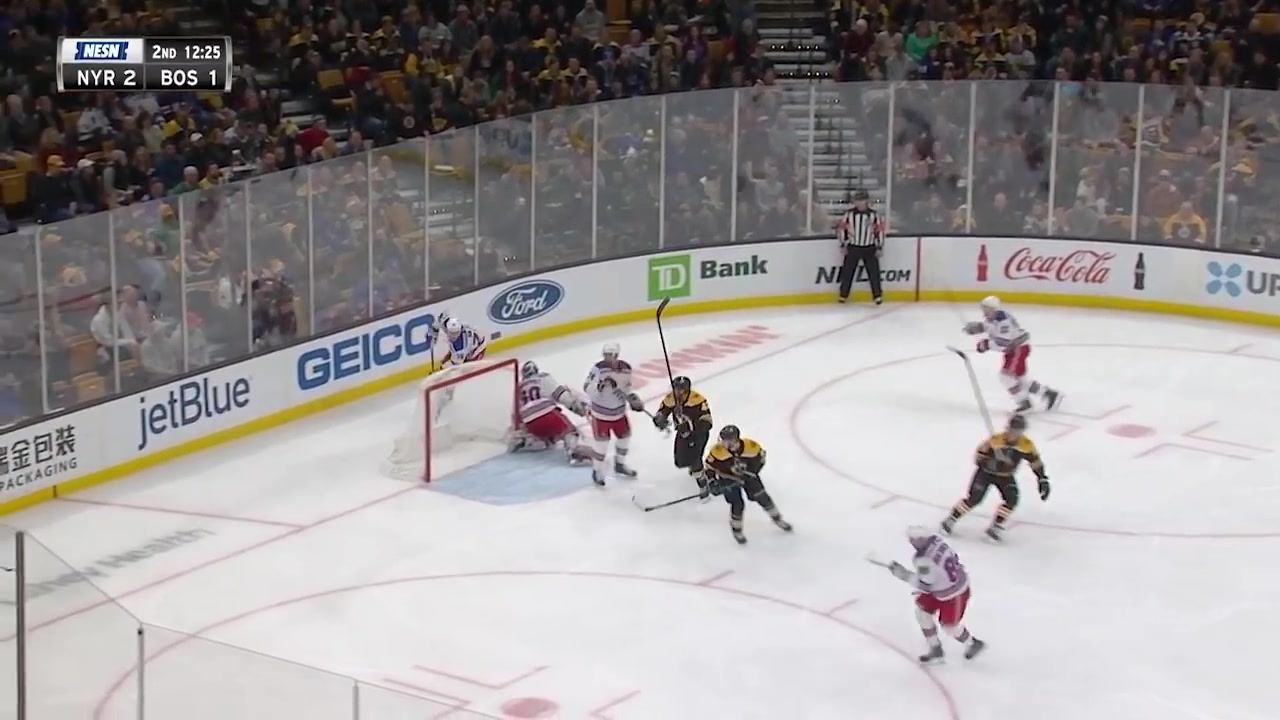Geico: (296, 307, 452, 397)
